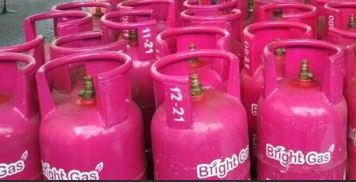bright_gas: (36, 50, 147, 182), (150, 51, 252, 182), (258, 41, 348, 182), (240, 22, 310, 114), (101, 11, 163, 112), (51, 35, 128, 104), (155, 27, 235, 93), (1, 51, 41, 182), (22, 11, 91, 74), (324, 4, 356, 115), (176, 1, 240, 29), (250, 1, 316, 25)
